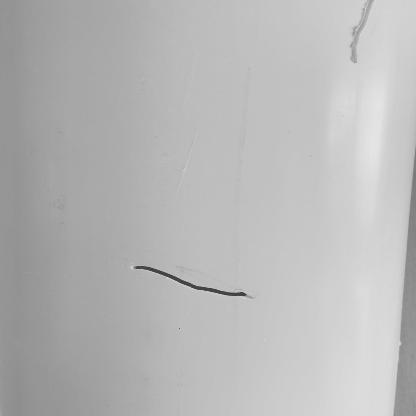fengxi: (132, 262, 248, 301)
sunshang: (350, 1, 381, 62)
